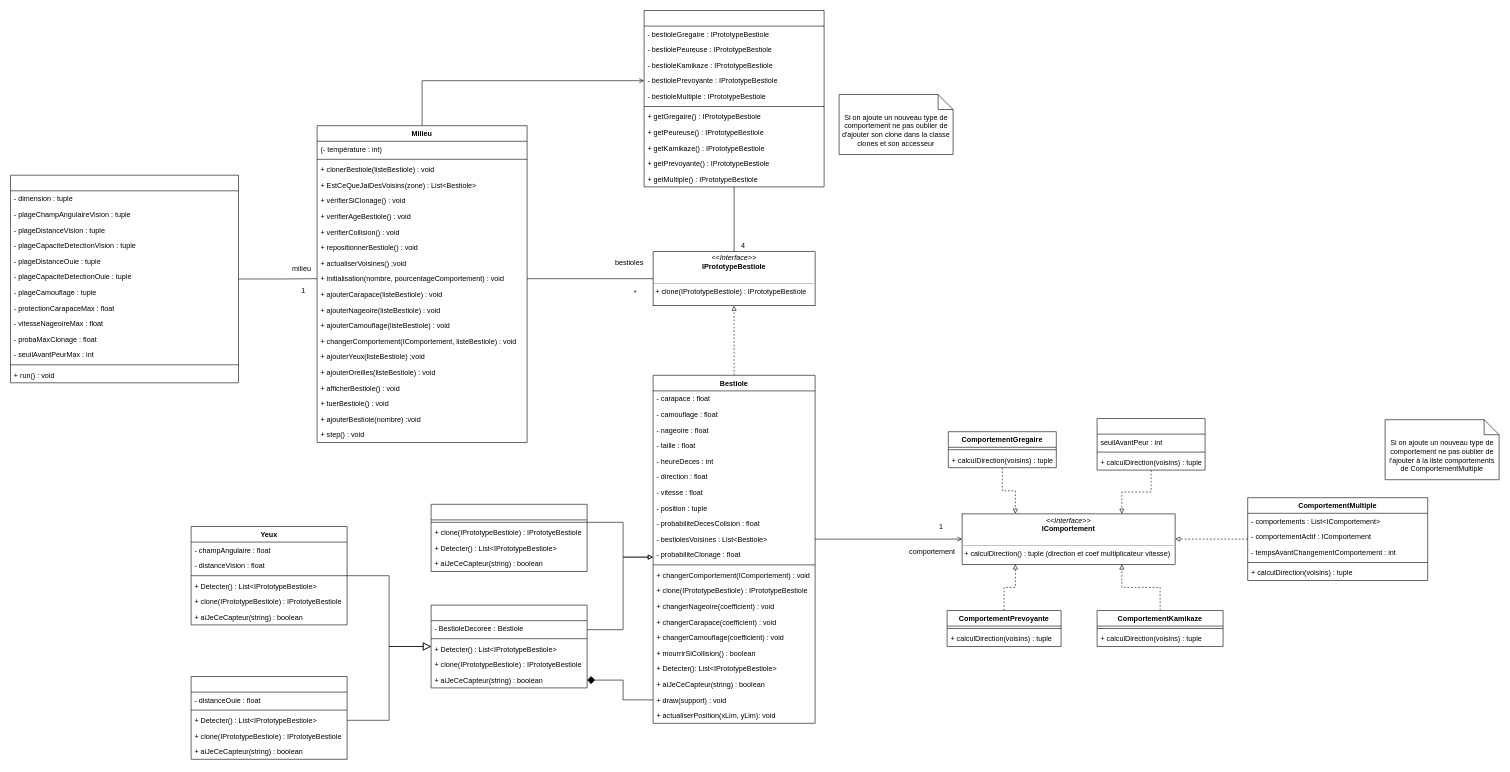
This 1510x772 diagram has some shape labels left out. Each missing label, with the box of its shape:
Aquarium: (10, 175, 238, 383)
CapteurDecorator: (430, 604, 587, 688)
Clones: (644, 10, 824, 187)
ComportementPeureuse: (1096, 418, 1205, 470)
Oreilles: (190, 676, 347, 759)
SimpleBestiole: (430, 504, 587, 572)
